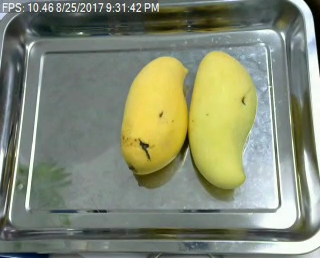Mango: (190, 50, 257, 189), (120, 56, 189, 175)
